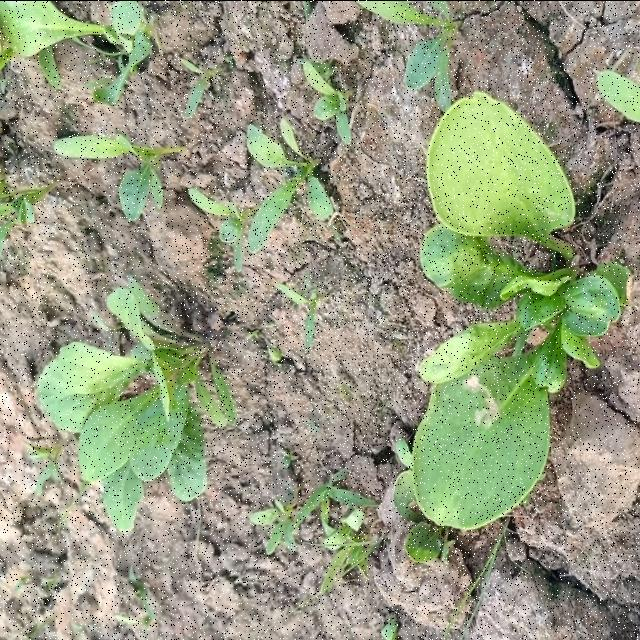plant: (396, 91, 631, 529), (38, 279, 234, 529)
